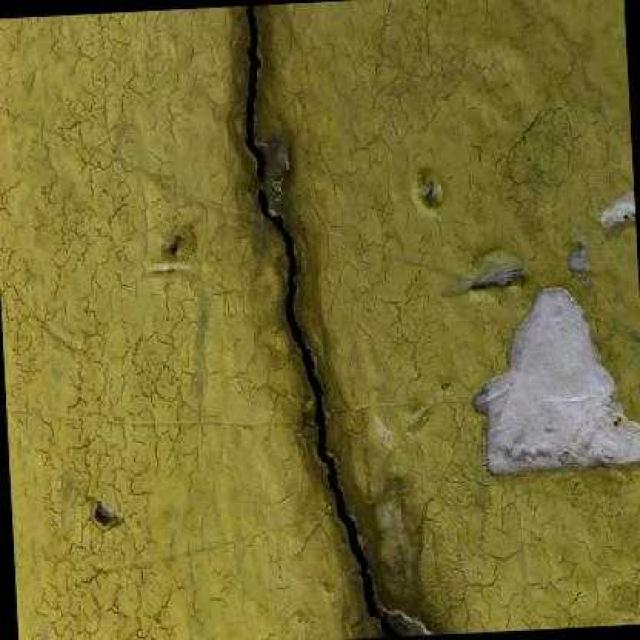D00: (237, 5, 410, 637)
